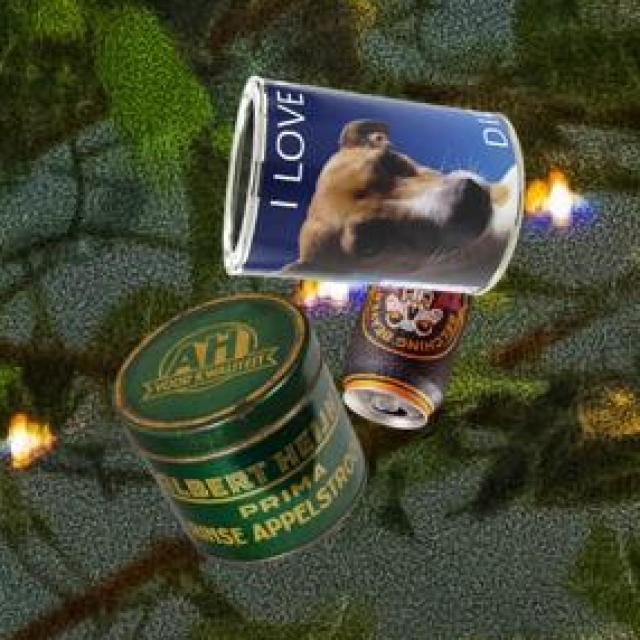logam: (117, 297, 370, 567), (227, 79, 527, 299), (346, 288, 478, 431)
